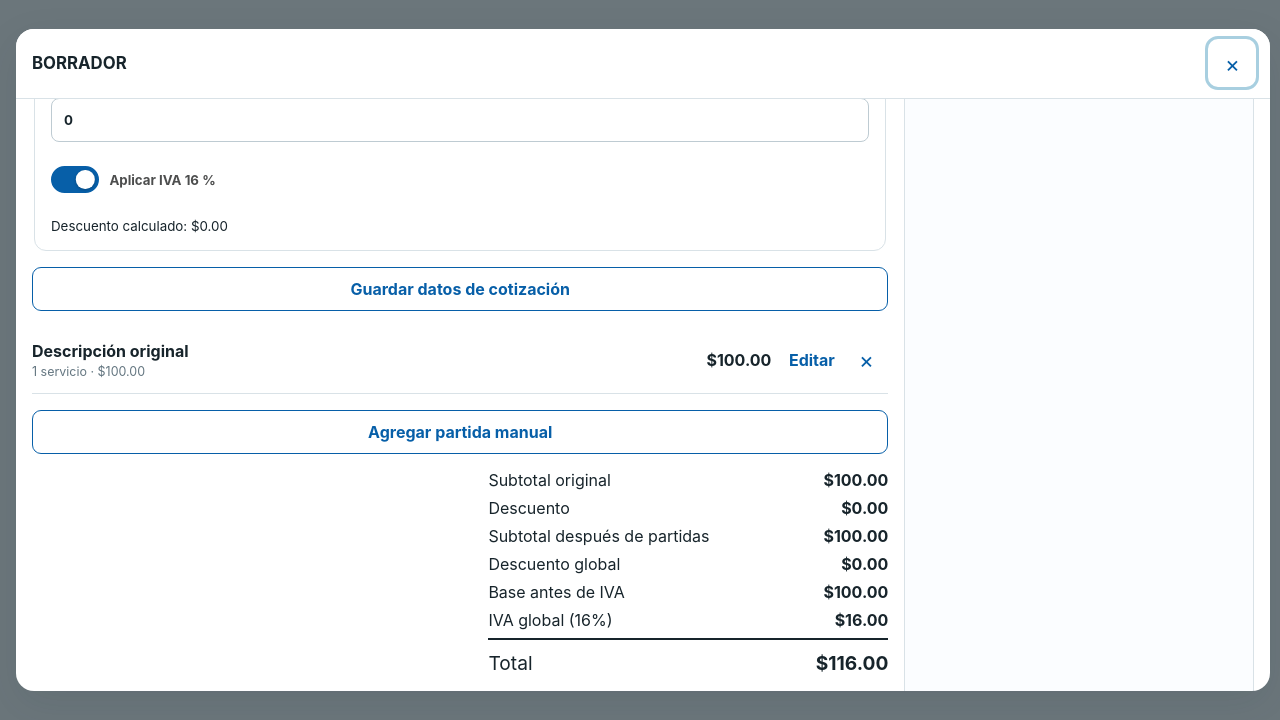
quote editor phase two interactions › cancels editing without changing the item
(page scrolled)
Click the button "Editar" at x=812, y=360, box [782, 343, 841, 376]
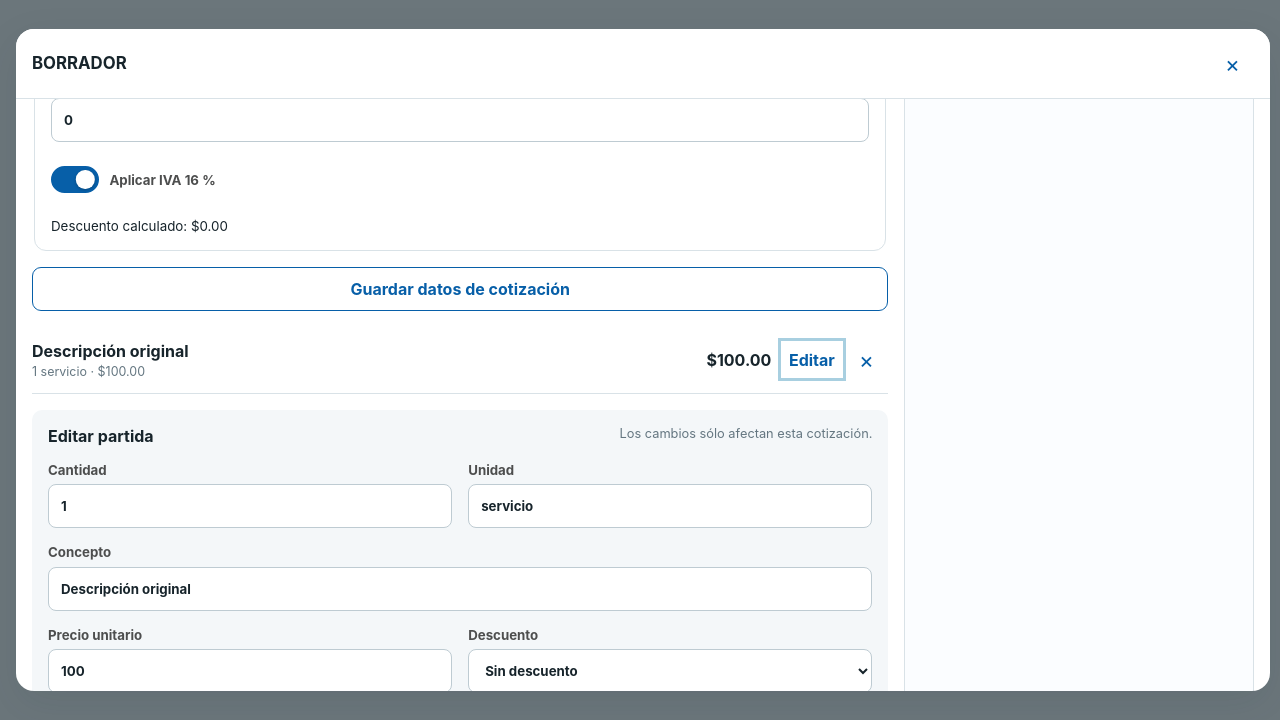
Replace the text in the field with test id "quote-item-description" with "Cambio cancelado" at x=460, y=589, box [48, 567, 872, 611]
(page scrolled)
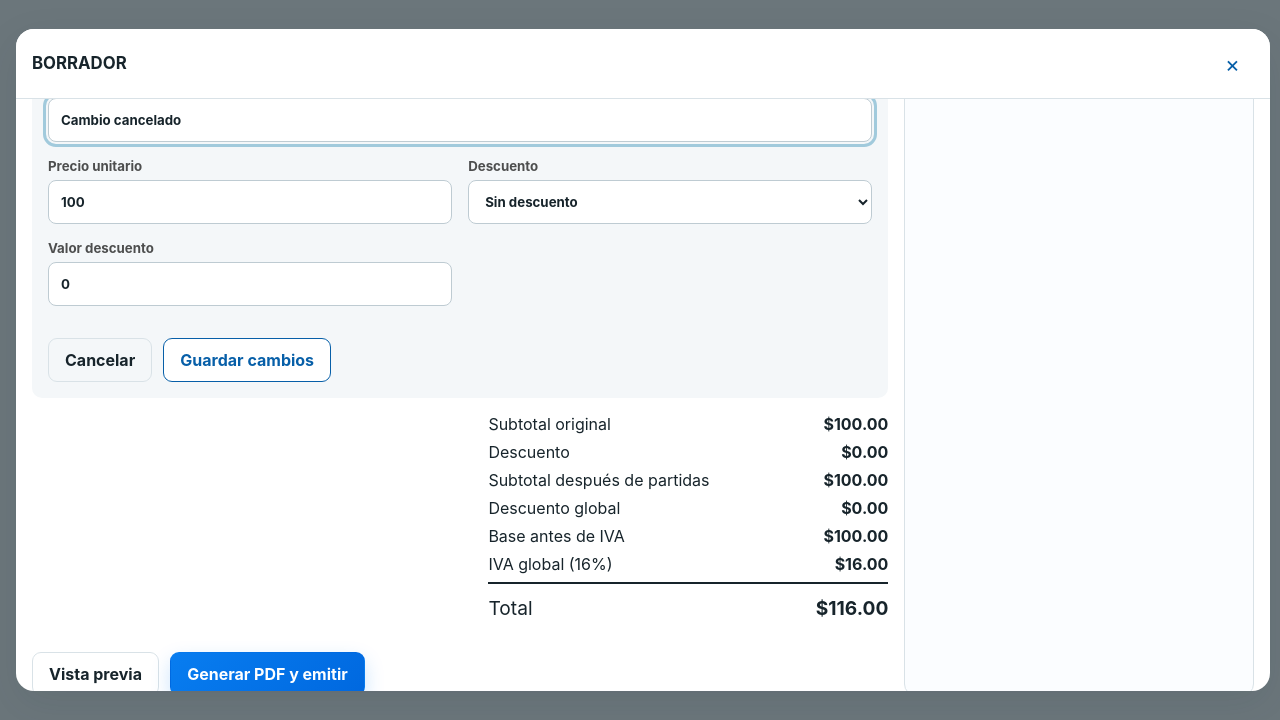
Click the button "Cancelar" at x=100, y=360, box [48, 338, 152, 382]
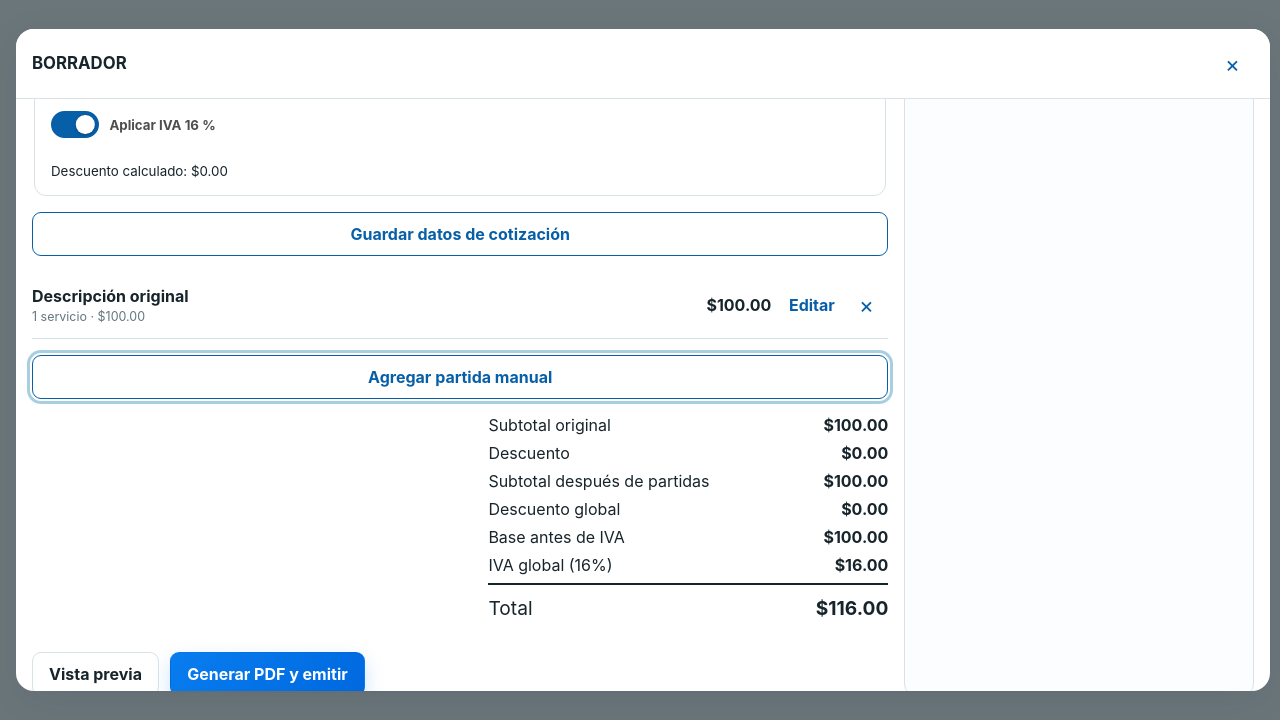
expect the field showing "Cambio cancelado" is not shown: met
expect the text "Descripción original" is shown: met, box [32, 286, 188, 306]
